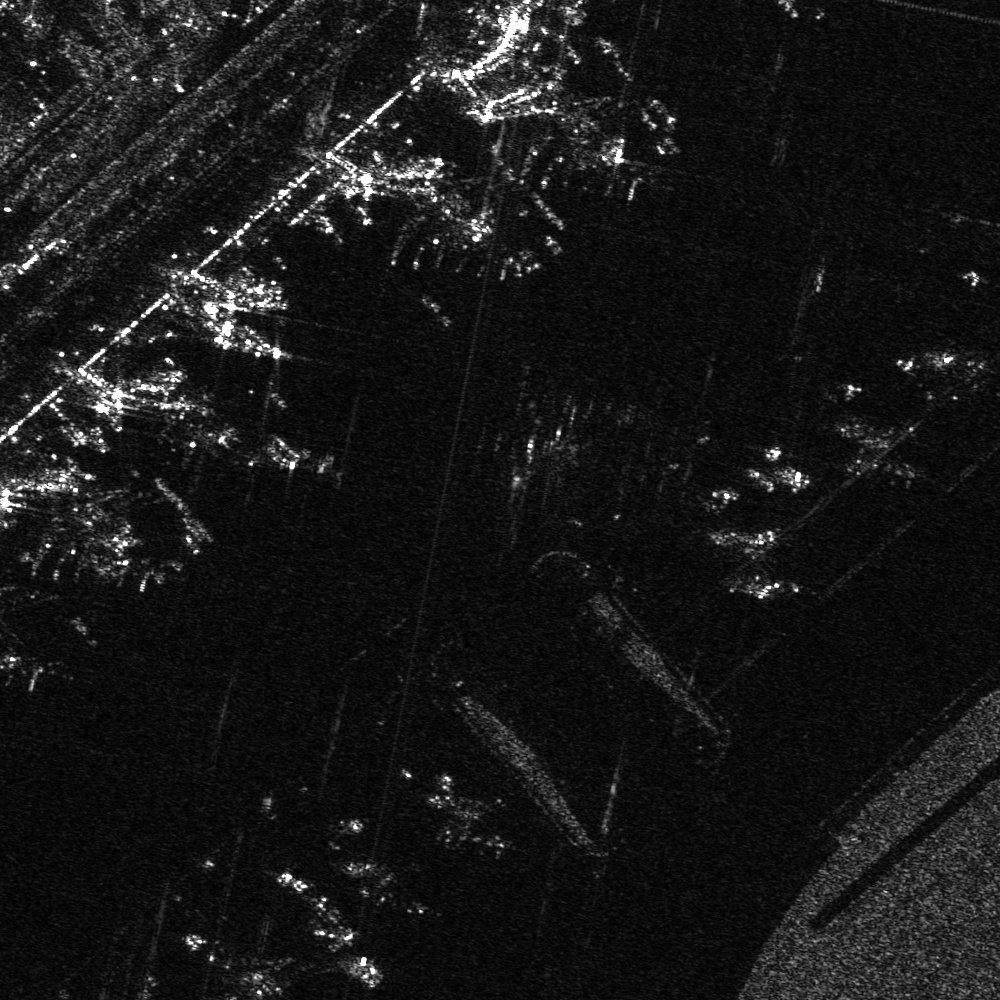Boeing737: (385, 175, 545, 286), (23, 488, 172, 598), (524, 88, 672, 197), (835, 414, 943, 502), (431, 769, 518, 857), (911, 341, 999, 416), (348, 852, 432, 922)
